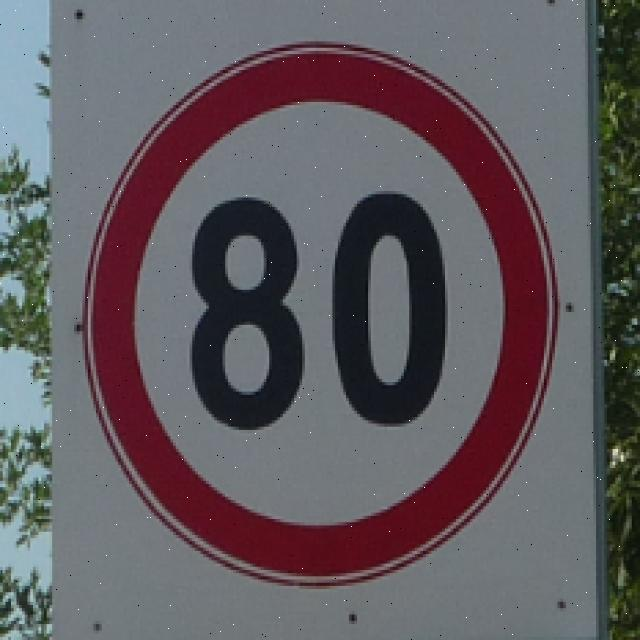speed limit 80: (80, 40, 559, 590)
